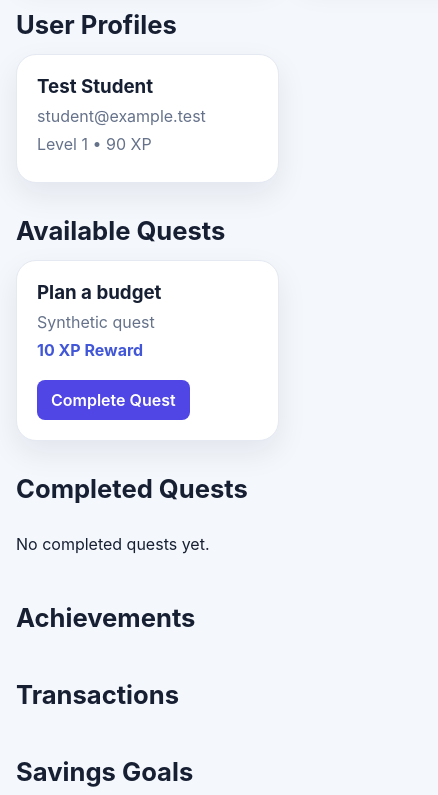
Test: Defect regression checks › CQ-D001 / WB-D01 failed completion must not retain an XP reward
(page scrolled)
Step 1. Click the button "Complete Quest" → point(113, 400), box [37,380,190,420]
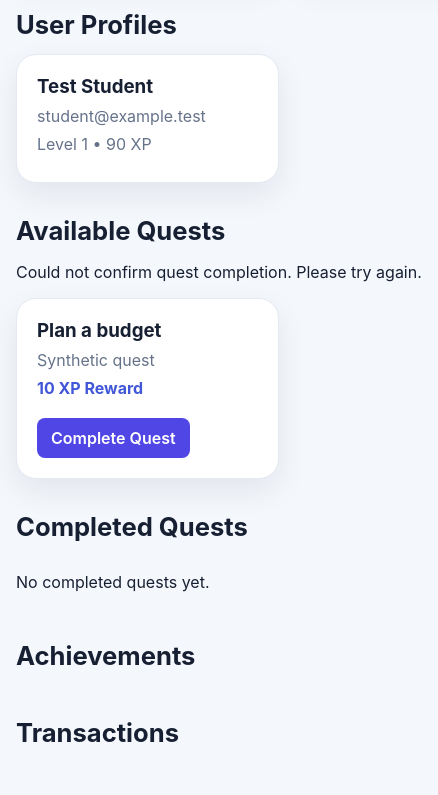
Check: the text "Level 1 • 90 XP" is shown, box [37,134,152,154]
Check: the message shows "Please try again", box [16,262,422,282]
